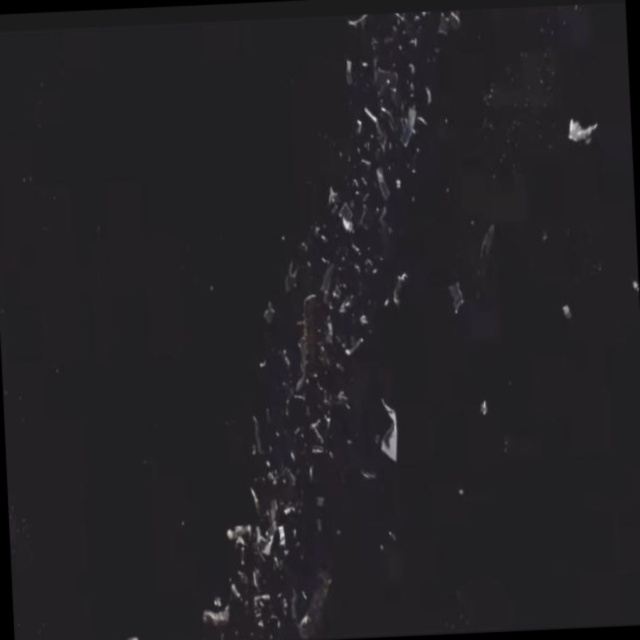large_debris: (291, 283, 327, 410), (373, 385, 405, 473), (561, 107, 600, 152), (200, 598, 231, 639), (394, 101, 420, 149), (445, 278, 470, 321), (373, 160, 395, 204)
